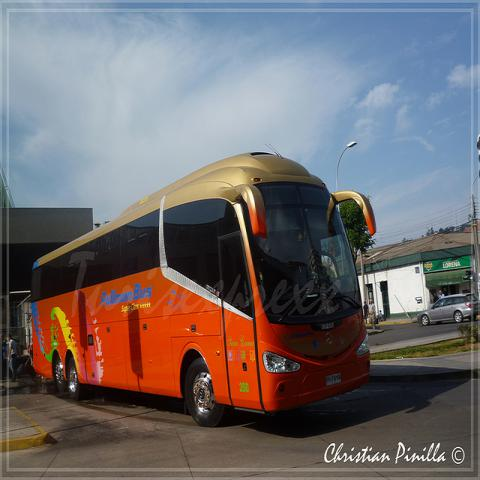bus: (32, 150, 376, 431)
car: (418, 292, 479, 325)
